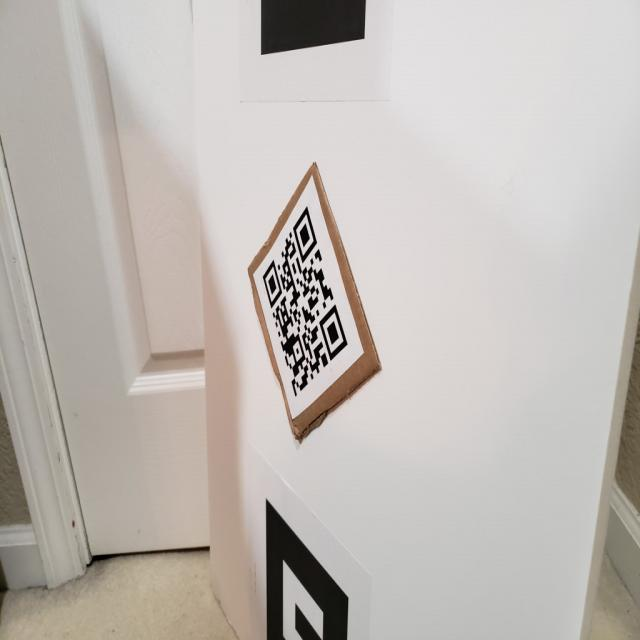QR_CODE: (255, 196, 355, 404)
